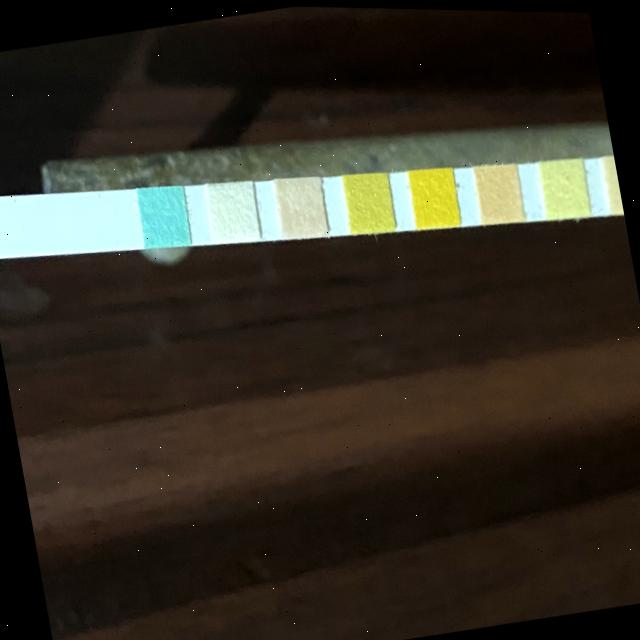Bilirubin: (210, 183, 257, 237)
Blood: (409, 168, 457, 225)
Glucose: (139, 187, 186, 244)
Ketone: (276, 177, 324, 238)
Protein: (541, 158, 589, 215)
SpGravity: (345, 173, 393, 231)
Urobilinogen: (605, 159, 624, 210)
pH: (474, 163, 522, 220)
